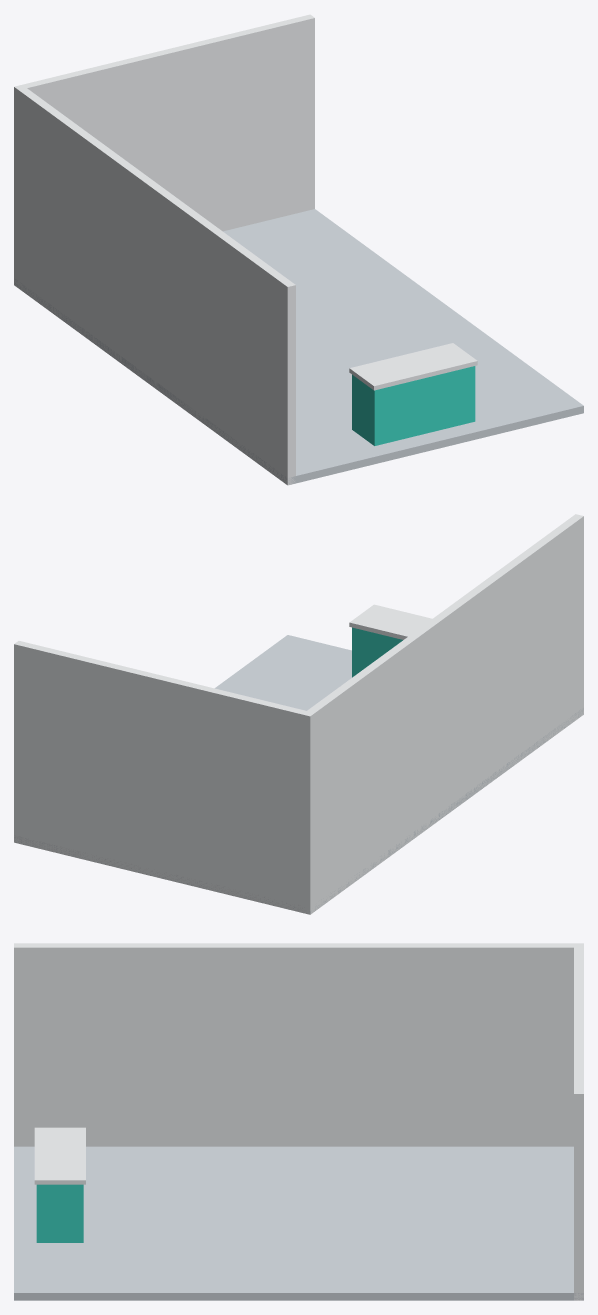
3 views of the same model, one above another, from view 1: azimuth 30°, elevation 25°; view 2: azimuth 150°, elevation 25°; view 3: azimuth 270°, elevation 25° (orthographic). The views are drawn at different scales.
Visible parts, largest first — view 1: Exhibition Booth Concept; view 2: Exhibition Booth Concept; view 3: Exhibition Booth Concept.
Boxes of the visible parts, <box> form: Exhibition Booth Concept: <box>14,14,583,485</box>; Exhibition Booth Concept: <box>14,514,583,914</box>; Exhibition Booth Concept: <box>14,943,583,1300</box>.
Size of the model in its own units: 5 by 3.2 by 8.
